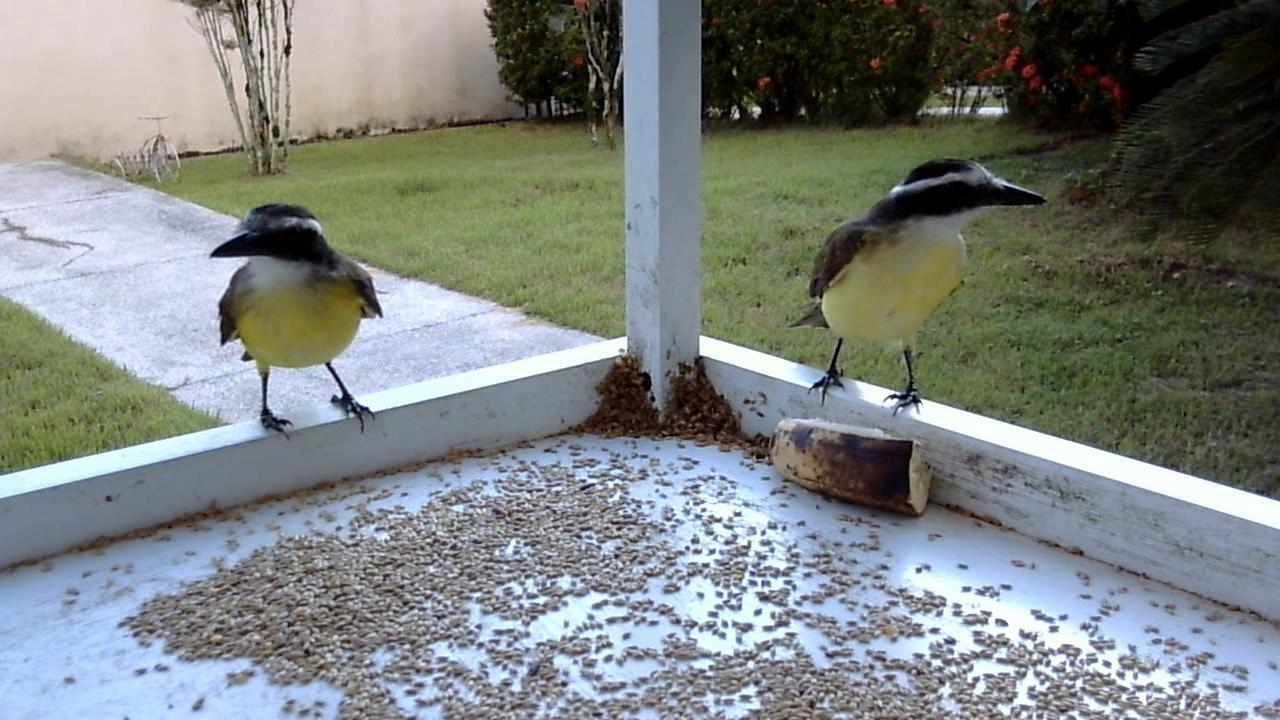bem_te_vi: (780, 151, 1045, 430), (201, 193, 395, 460)
